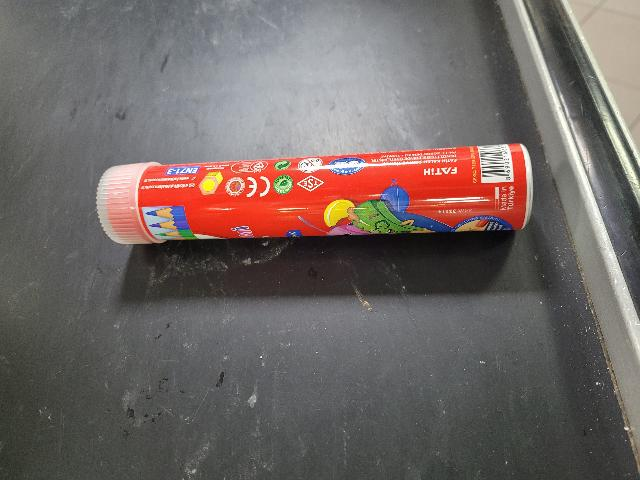Metal: (144, 140, 532, 241)
Plastik: (96, 152, 149, 249)
